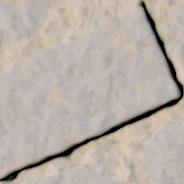brick: (0, 9, 177, 176), (141, 121, 183, 183), (0, 0, 50, 48), (34, 160, 125, 183), (170, 6, 183, 66), (78, 0, 93, 5), (102, 0, 115, 1)
crack: (0, 0, 183, 183)
